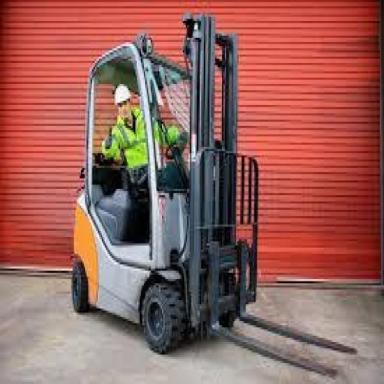forklift: (67, 8, 291, 357)
